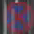No Stopping: (3, 1, 33, 31)
